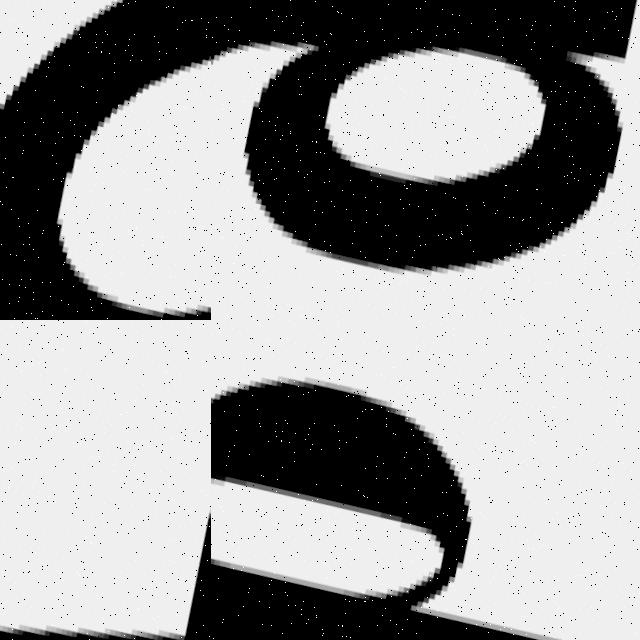B: (211, 380, 522, 640)
F: (0, 371, 211, 640)
G: (211, 0, 640, 320)
O: (0, 0, 211, 320)
